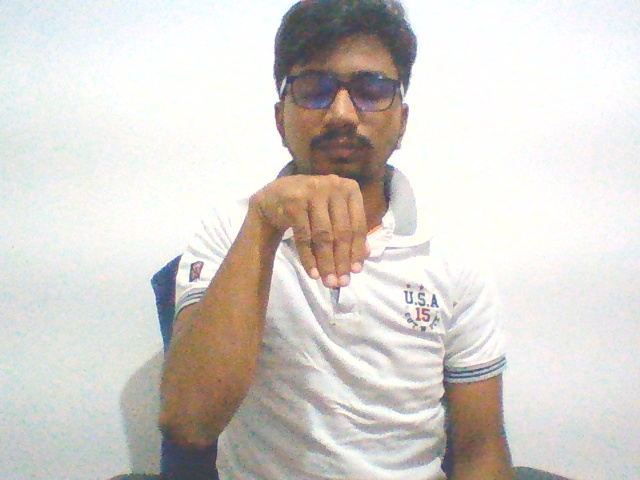Squirrel: (244, 167, 376, 298)
